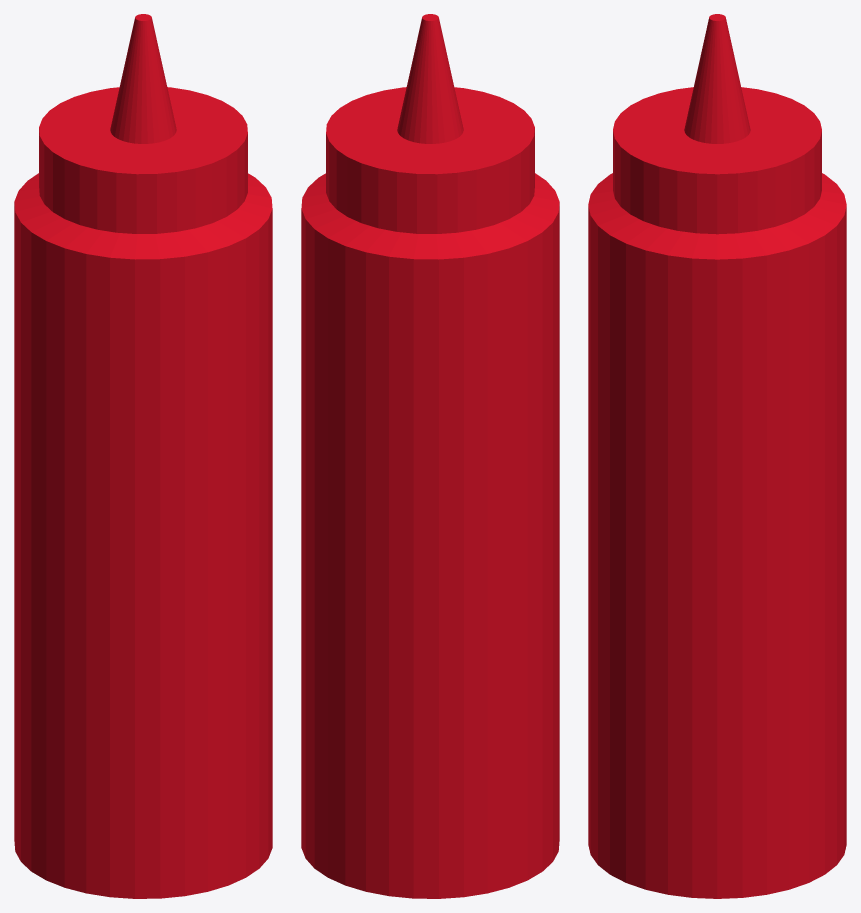
File: ketchap.fbx
The picture shows the model from 3 angles, left to right: view 1: azimuth 30°, elevation 25°; view 2: azimuth 150°, elevation 25°; view 3: azimuth 270°, elevation 25°; orthographic projection.
Visible parts, largest first — view 1: Cylinder.005; view 2: Cylinder.005; view 3: Cylinder.005.
Part boxes in pixels (box(x1,y1,x2,y2)): Cylinder.005: box(14, 14, 272, 898); Cylinder.005: box(301, 14, 559, 898); Cylinder.005: box(588, 14, 846, 898).
Size of the model in its own units: 11.51 by 40.59 by 11.51.
